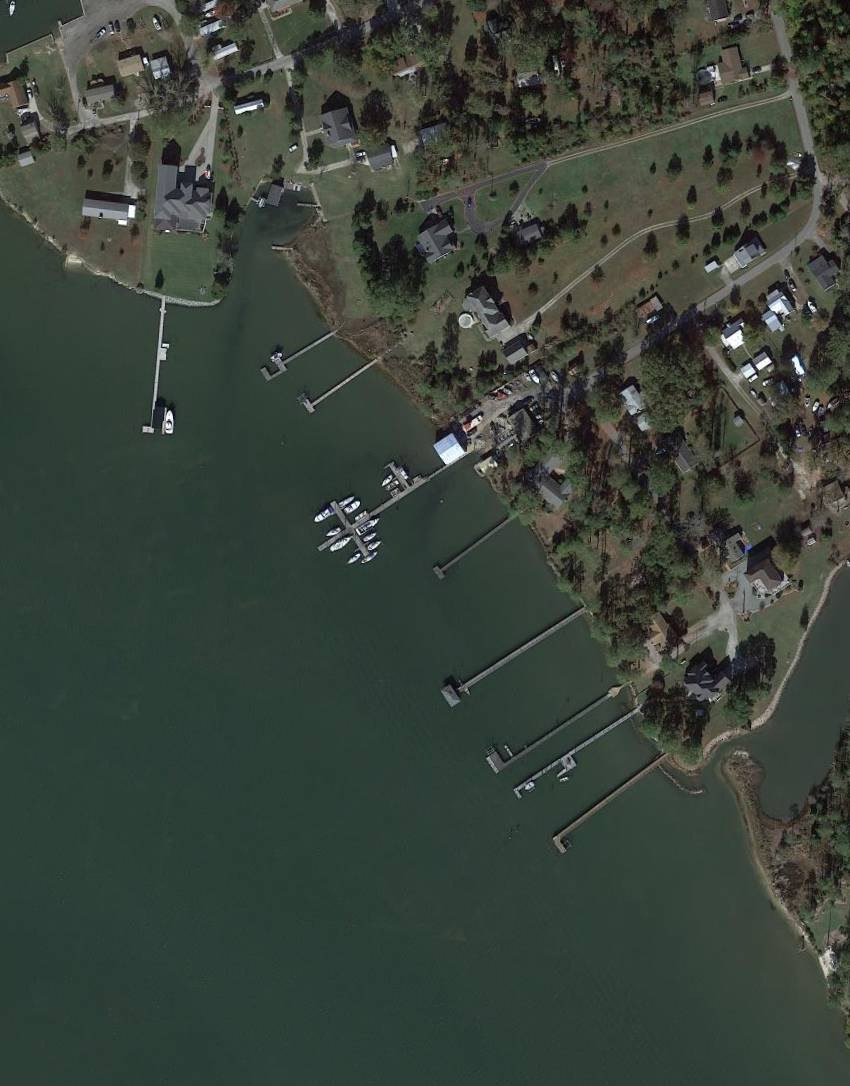harbor: (302, 442, 462, 584), (441, 610, 572, 710), (513, 721, 624, 806), (552, 769, 653, 856), (482, 704, 572, 776), (430, 521, 506, 583), (259, 328, 335, 384), (299, 358, 368, 418), (142, 330, 173, 435)
ship: (355, 513, 382, 538), (328, 532, 354, 555), (311, 506, 338, 527), (343, 496, 364, 517), (345, 548, 366, 565), (378, 472, 397, 490), (360, 549, 381, 565), (164, 410, 177, 435), (324, 524, 344, 539), (804, 297, 819, 316), (527, 368, 542, 386), (367, 538, 383, 551)
